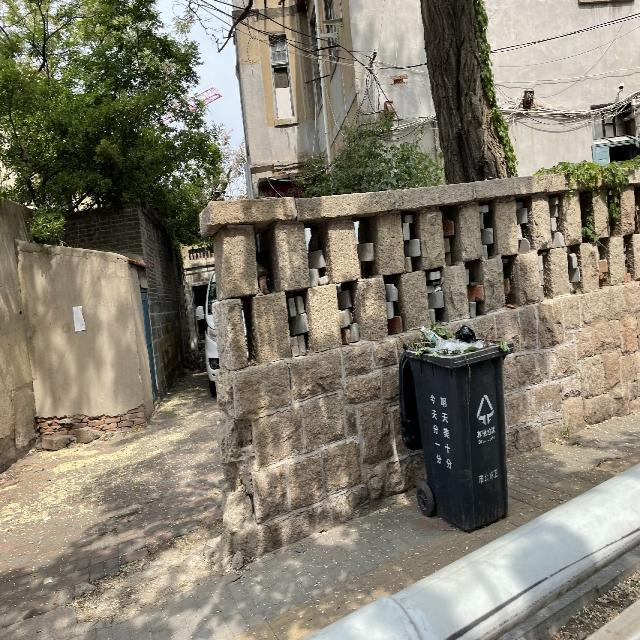overflow: (399, 324, 514, 533)
